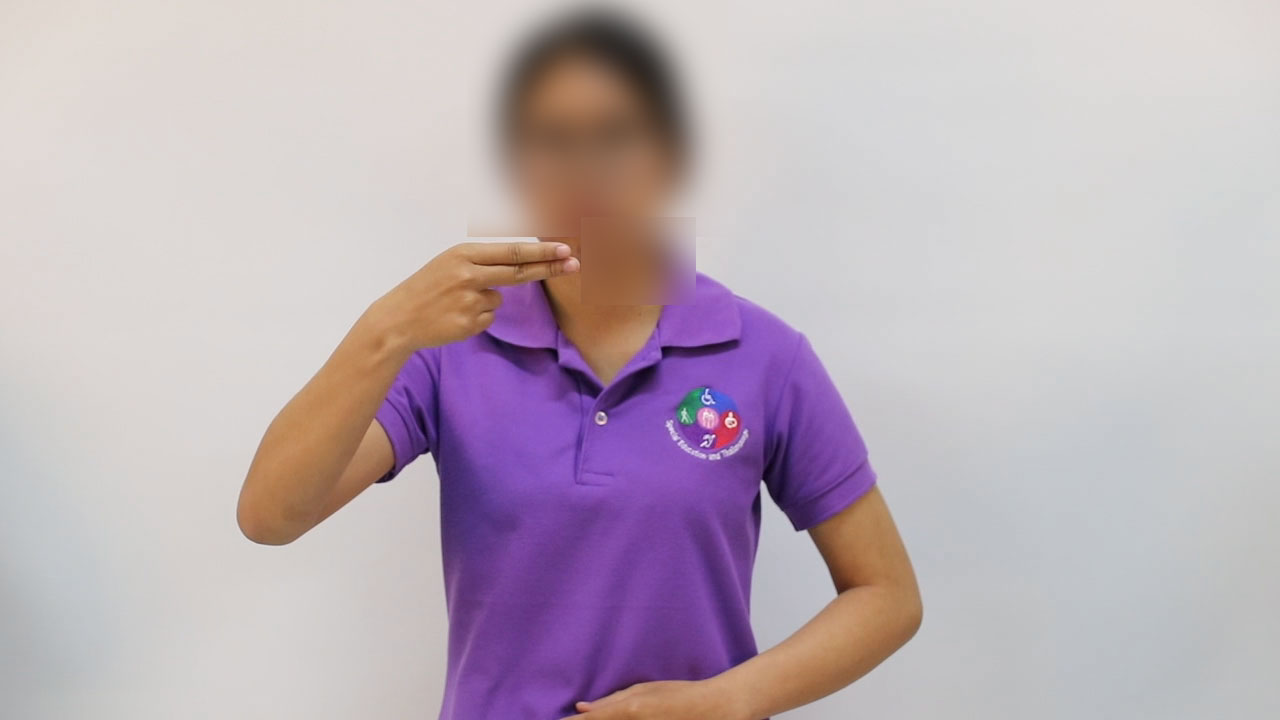hor: (379, 220, 595, 362)
